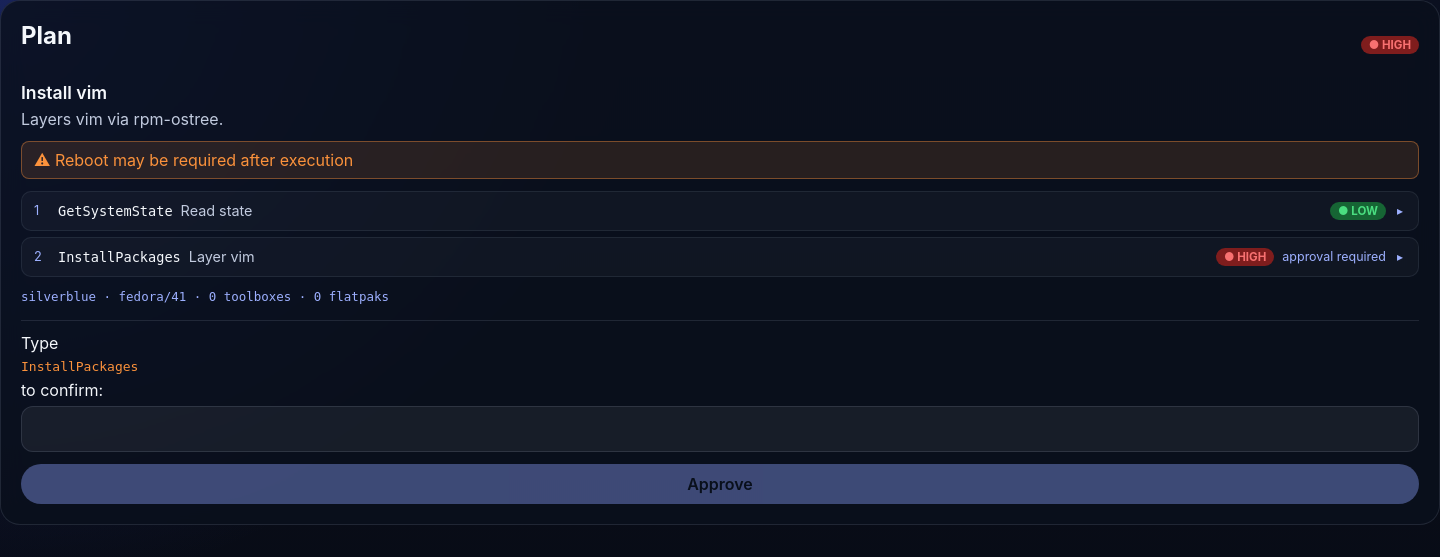
Test: PlanPane — approval gate › HIGH risk: Approve button is disabled until action name is typed
expect the button "Approve" is disabled: met, box x1=21 y1=464 x2=1419 y2=504
Type "InstallPackages" into the field at x=720, y=429, box x1=21 y1=406 x2=1419 y2=452
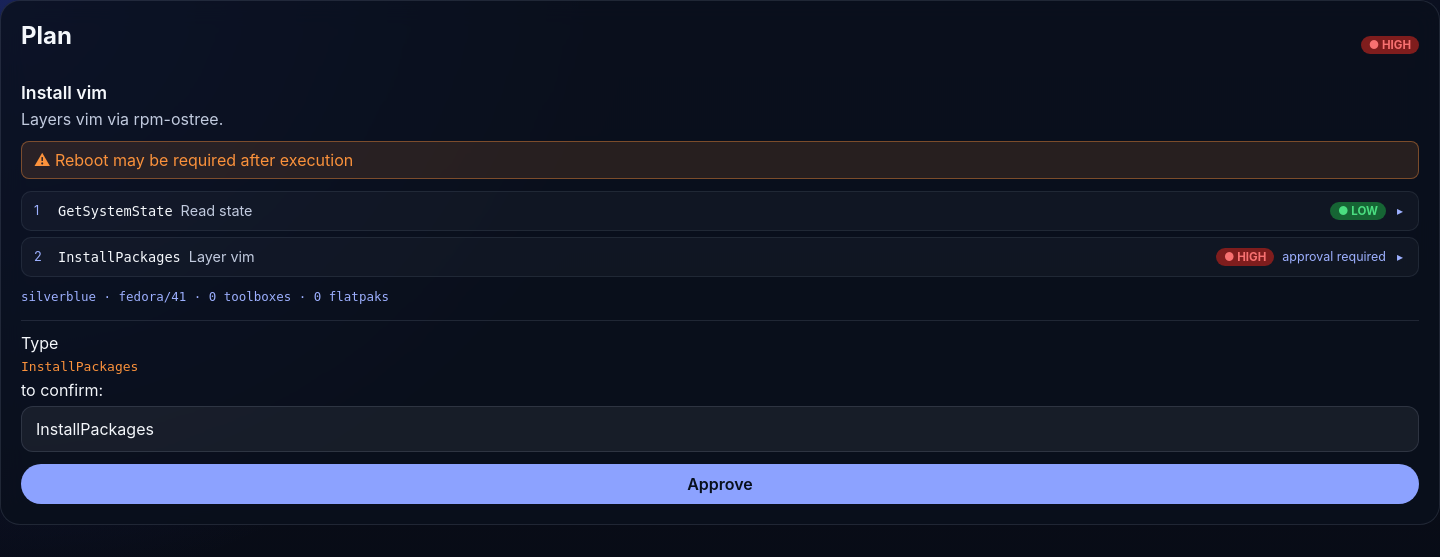
expect the button "Approve" is enabled: met, box x1=21 y1=464 x2=1419 y2=504
